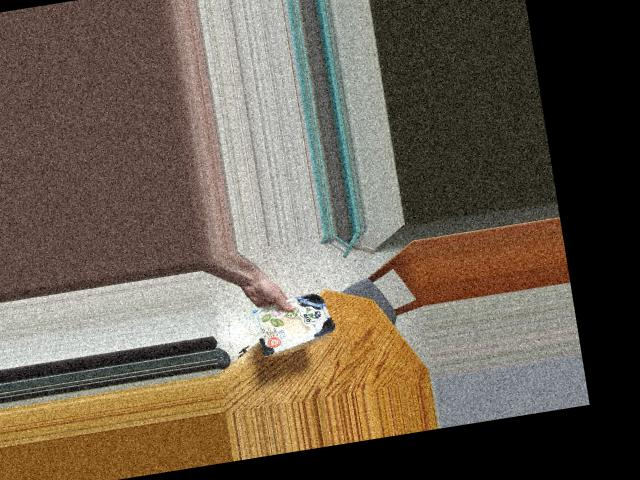cheese: (263, 285, 329, 354)
